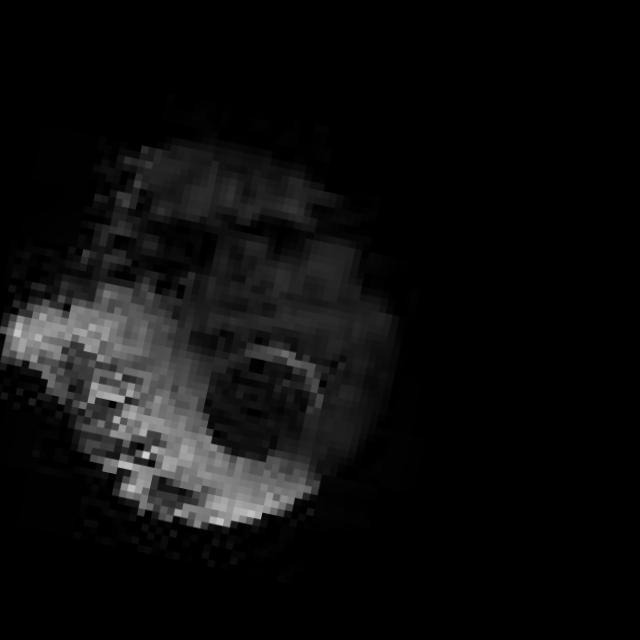Death Star: (0, 101, 441, 582)
